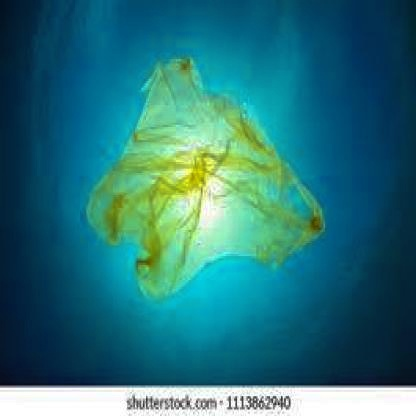pbag: (87, 57, 326, 300)
